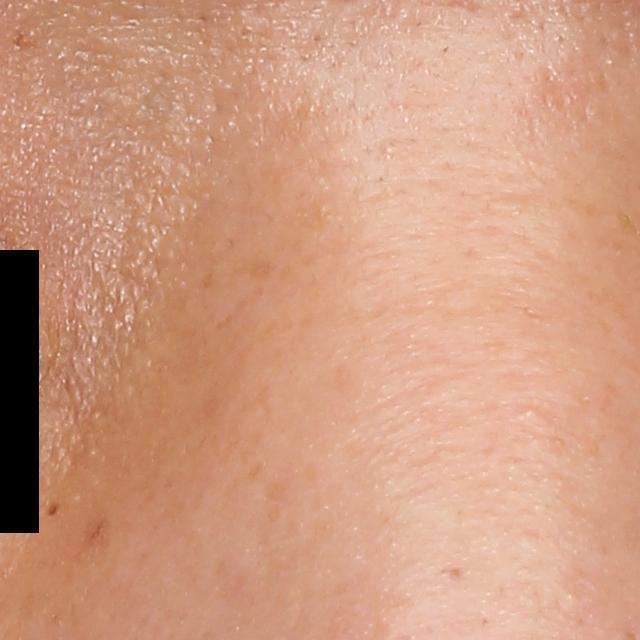nevus: (48, 504, 58, 518)
